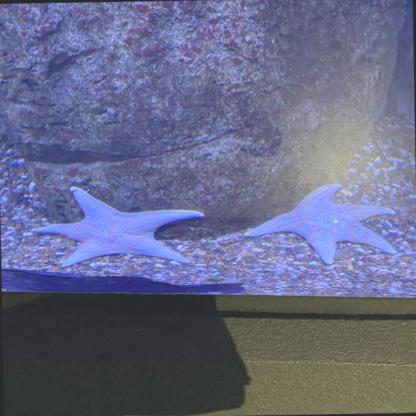starfish: (26, 184, 210, 269), (242, 178, 399, 266)
